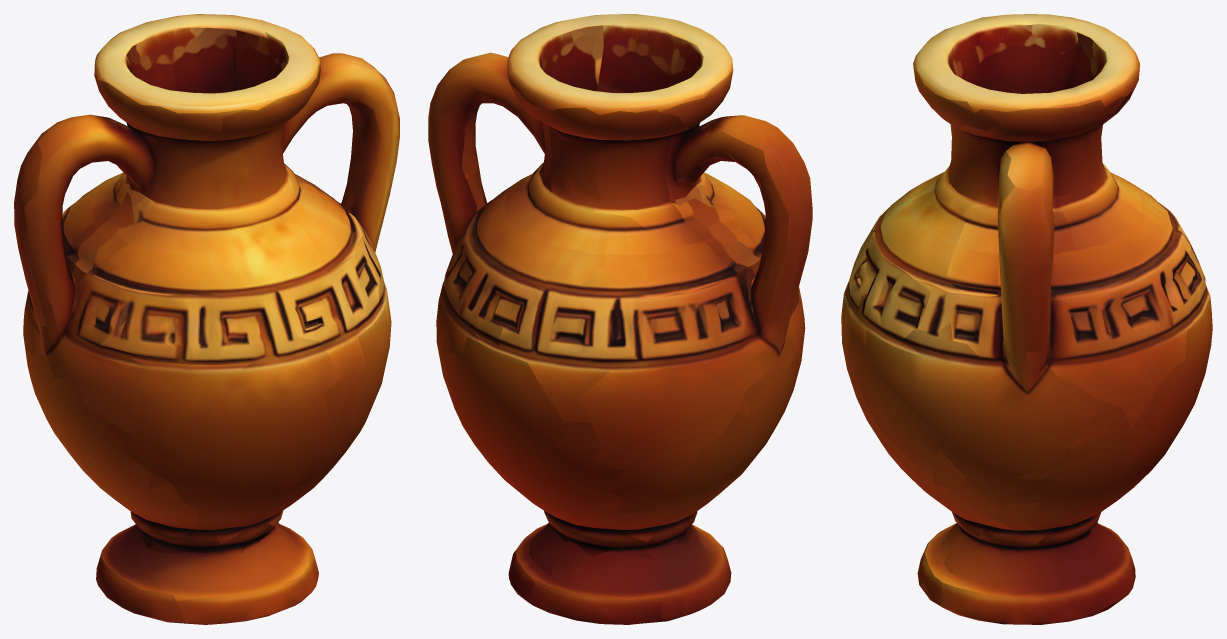
The model's file is Vase.fbx.
3 renders of one model, left to right at view 1: azimuth 30°, elevation 25°; view 2: azimuth 150°, elevation 25°; view 3: azimuth 270°, elevation 25°, orthographic.
Visible parts, largest first — view 1: tmpvghip1_h.ply; view 2: tmpvghip1_h.ply; view 3: tmpvghip1_h.ply.
Boxes of the visible parts, x1,y1,x2,y2 form: tmpvghip1_h.ply: [14, 14, 399, 624]; tmpvghip1_h.ply: [428, 14, 812, 624]; tmpvghip1_h.ply: [841, 14, 1212, 624].
Bounding box in the file's own units: 150 × 199 × 128.
Materials: 1 (1 with a texture image).
